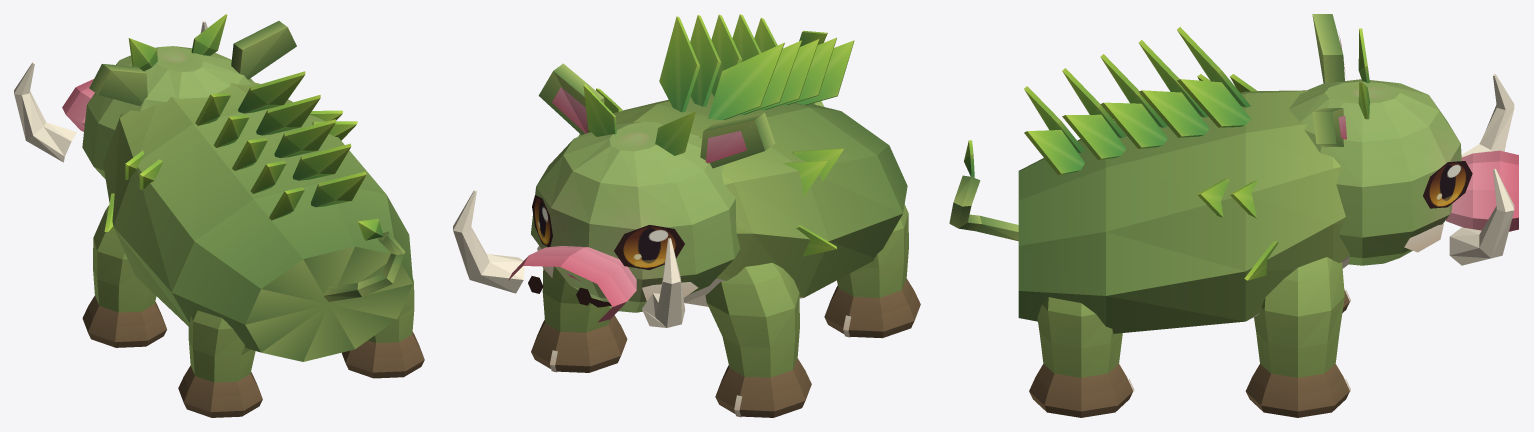
File: BrambleBoar_S6_FacetedReview.glb
The picture shows the model from 3 angles, left to right: view 1: azimuth 30°, elevation 25°; view 2: azimuth 150°, elevation 25°; view 3: azimuth 270°, elevation 25°; orthographic projection. The views are drawn at different scales.
Visible parts, largest first — view 1: Body, Head, LeftBackLeg, LeftFrontLeg, RightBackLeg, LeftTusk, RightEar, LeftEar, Tail, RightBrambleRidge0, RightBrambleRidge1, RightBrambleRidge2 (+12 smaller); view 2: Body, Head, LeftFrontLeg, LeftBackLeg, RightFrontLeg, Snout, LeftBrambleRidge0, RightTusk, RightBrambleRidge0, LeftEye, LeftTusk, LeftEar (+17 smaller); view 3: Body, Head, RightFrontLeg, RightBackLeg, Snout, RightTusk, RightBrambleRidge0, Tail, RightBrambleRidge1, RightBrambleRidge2, RightBrambleRidge3, RightEye (+11 smaller).
Part boxes in pixels (x1,y1,x2,y2): Body: (103, 81, 413, 361); Head: (82, 46, 253, 178); LeftBackLeg: (178, 310, 262, 417); LeftFrontLeg: (82, 205, 166, 347); RightBackLeg: (342, 278, 424, 378); LeftTusk: (14, 62, 76, 162); RightEar: (231, 21, 296, 79); LeftEar: (89, 64, 147, 105); Tail: (323, 231, 405, 301); RightBrambleRidge0: (238, 71, 305, 113); RightBrambleRidge1: (256, 95, 320, 135); RightBrambleRidge2: (274, 119, 335, 157); Body: (578, 92, 907, 306); Head: (531, 121, 740, 312); LeftFrontLeg: (705, 263, 811, 417); LeftBackLeg: (824, 204, 920, 338); RightFrontLeg: (531, 266, 627, 372); Snout: (508, 246, 636, 322); LeftBrambleRidge0: (708, 42, 784, 119); RightTusk: (453, 190, 524, 293); RightBrambleRidge0: (659, 16, 699, 112); LeftEye: (614, 225, 684, 270); LeftTusk: (642, 238, 685, 327); LeftEar: (700, 112, 775, 168); Body: (1018, 90, 1349, 333); Head: (1289, 79, 1461, 265); RightFrontLeg: (1245, 257, 1349, 417); RightBackLeg: (1029, 297, 1133, 417); Snout: (1446, 150, 1518, 231); RightTusk: (1449, 168, 1514, 265); RightBrambleRidge0: (1177, 79, 1250, 127); Tail: (949, 175, 1018, 241); RightBrambleRidge1: (1139, 90, 1209, 137); RightBrambleRidge2: (1100, 102, 1167, 148); RightBrambleRidge3: (1062, 114, 1126, 160); RightEye: (1423, 161, 1472, 208).
Size of the model in its own units: 9.69 by 10 by 17.13.
Materials: 1 (1 with a texture image).
